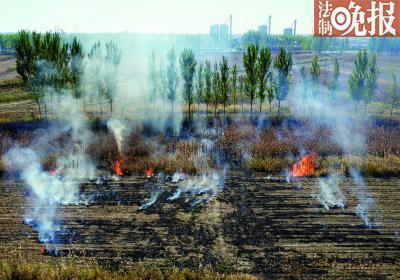fire: (280, 144, 320, 181), (107, 152, 133, 180), (139, 160, 162, 179)
